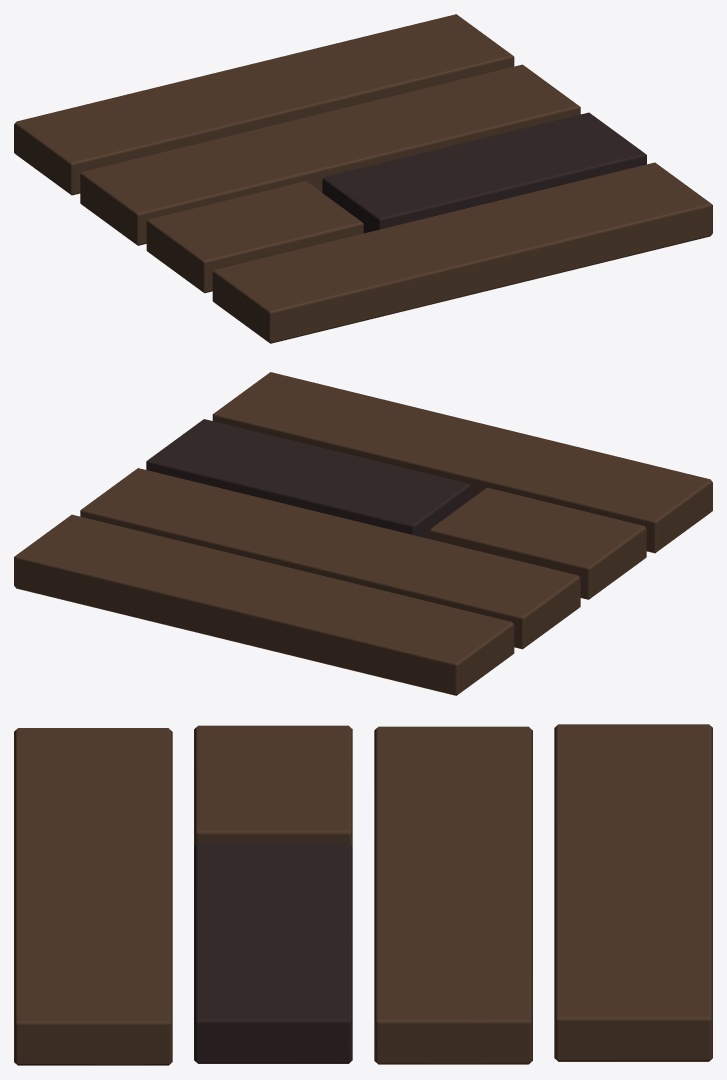
Rendered from stone-halls-planks-c.308f033b.glb.
3 views of the same model, one above another, from view 1: azimuth 30°, elevation 25°; view 2: azimuth 150°, elevation 25°; view 3: azimuth 270°, elevation 25° (orthographic). The views are drawn at different scales.
Parts seen in each view (by area): view 1: body; view 2: body; view 3: body.
Boxes of the visible parts, x1,y1,x2,y2 form: body: (14, 14, 712, 343); body: (14, 372, 712, 695); body: (14, 724, 712, 1065).
Bounding box in the file's own units: 0.9705 × 0.076 × 0.97.
